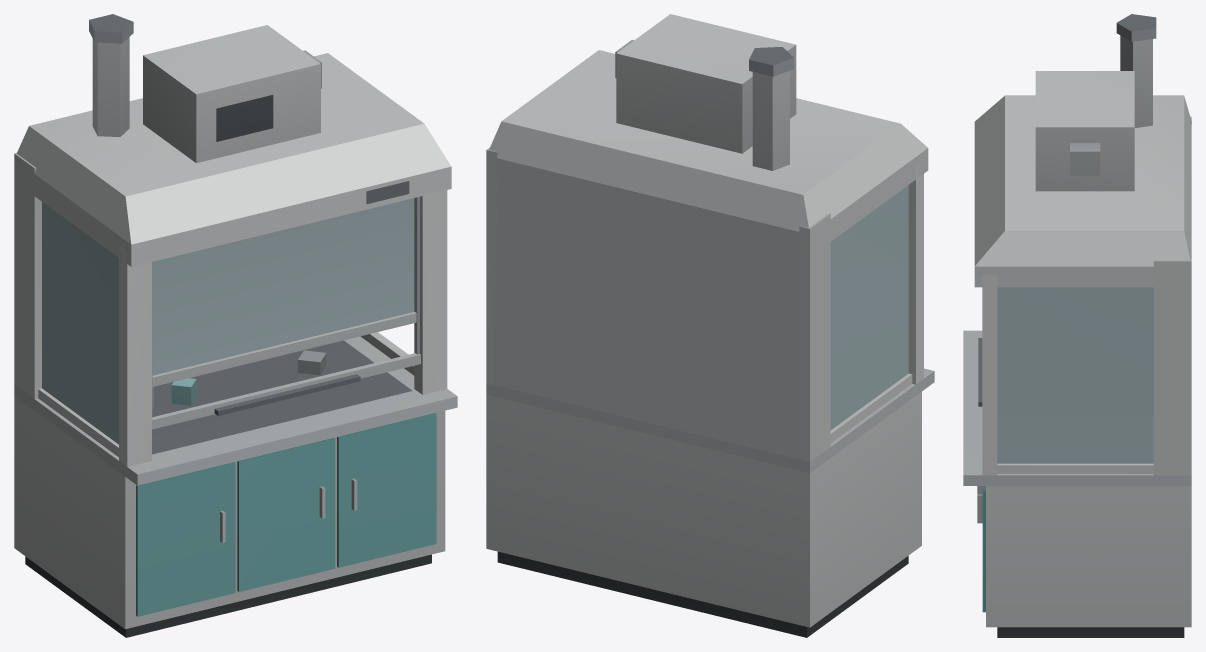
Rendered from hood.lod1.glb.
The picture shows the model from 3 angles, left to right: view 1: azimuth 30°, elevation 25°; view 2: azimuth 150°, elevation 25°; view 3: azimuth 270°, elevation 25°; orthographic projection. The views are drawn at different scales.
Size of the model in its own units: 1.8 by 2.92 by 1.2.
